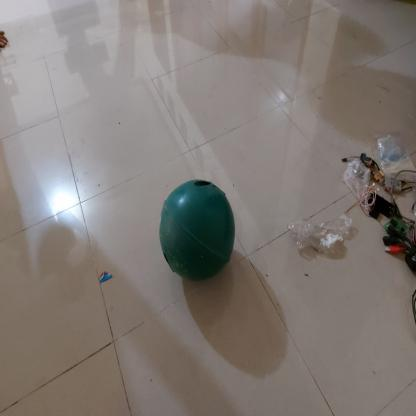green_buoy: (156, 178, 240, 283)
